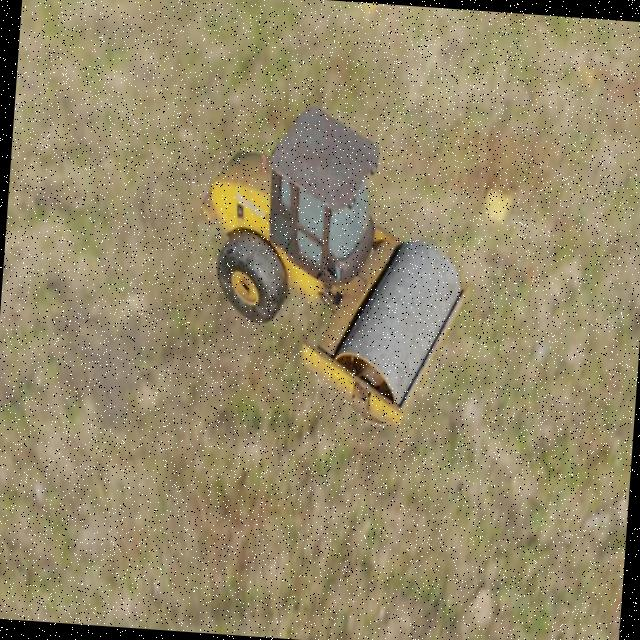Roller: (186, 98, 482, 434)
